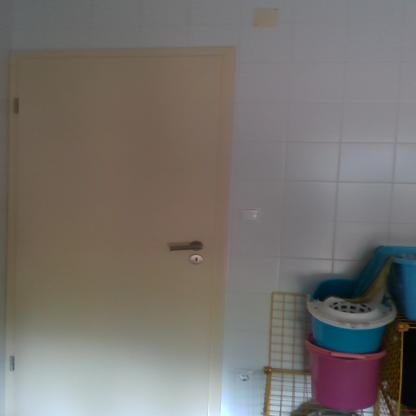closed: (0, 32, 246, 412)
